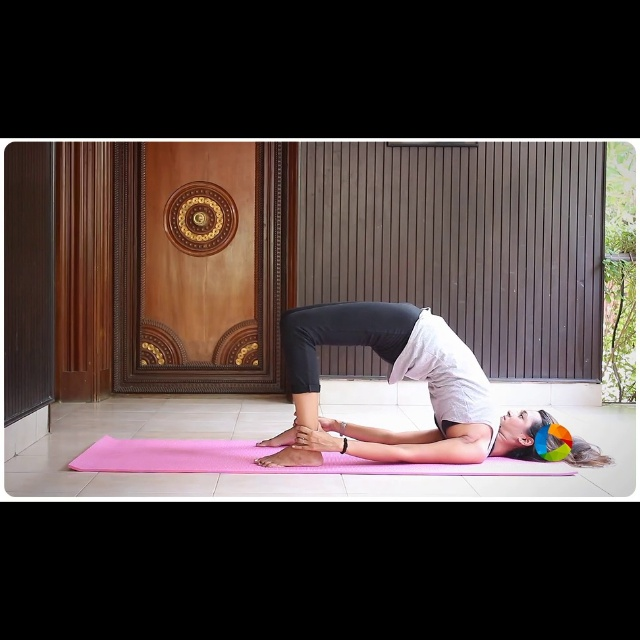Bridge_Pose: (248, 291, 621, 482)
